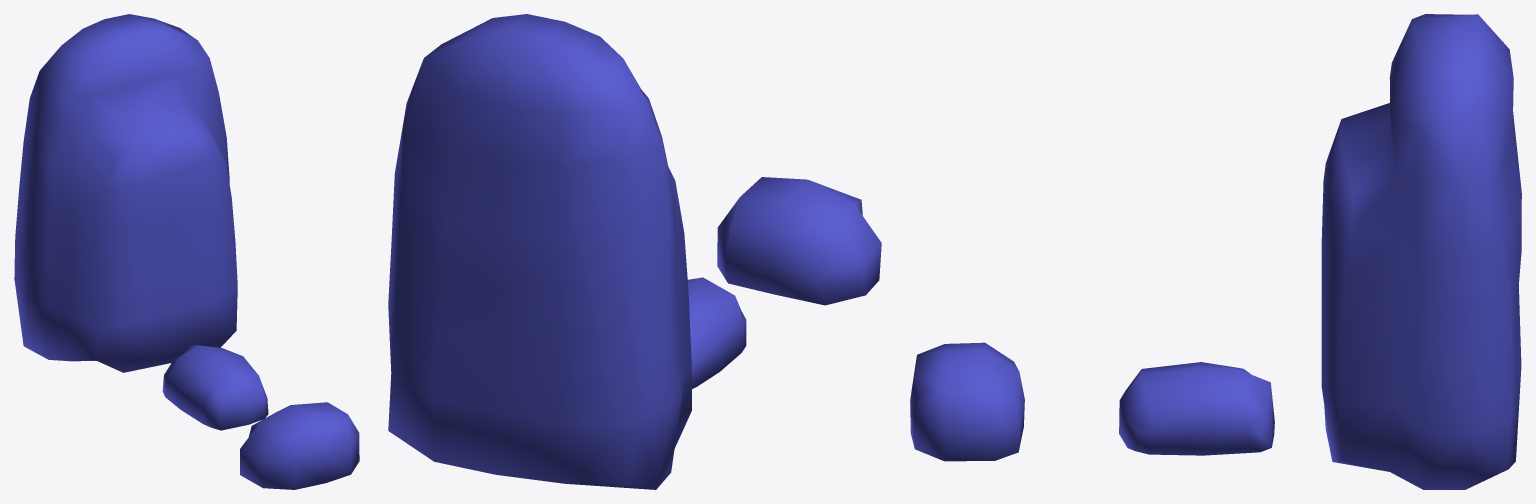
The model's file is piedra.fbx.
3 views of the same model, side by side, from view 1: azimuth 30°, elevation 25°; view 2: azimuth 150°, elevation 25°; view 3: azimuth 270°, elevation 25° (orthographic). The views are drawn at different scales.
Visible parts, largest first — view 1: PiedraMayor_lp, PiedraChiquita2_lp, PiedraChiquita1_lp; view 2: PiedraMayor_lp, PiedraChiquita2_lp, PiedraChiquita1_lp; view 3: PiedraMayor_lp, PiedraChiquita1_lp, PiedraChiquita2_lp.
Part boxes in pixels (bbox=[...]): PiedraMayor_lp: bbox=[14, 14, 237, 372]; PiedraChiquita2_lp: bbox=[240, 402, 359, 489]; PiedraChiquita1_lp: bbox=[162, 345, 268, 430]; PiedraMayor_lp: bbox=[388, 14, 691, 489]; PiedraChiquita2_lp: bbox=[717, 177, 881, 305]; PiedraChiquita1_lp: bbox=[687, 277, 746, 388]; PiedraMayor_lp: bbox=[1321, 14, 1521, 489]; PiedraChiquita1_lp: bbox=[1119, 362, 1274, 455]; PiedraChiquita2_lp: bbox=[910, 342, 1024, 461].
Bounding box in the file's own units: 75.54 × 116 × 156.
